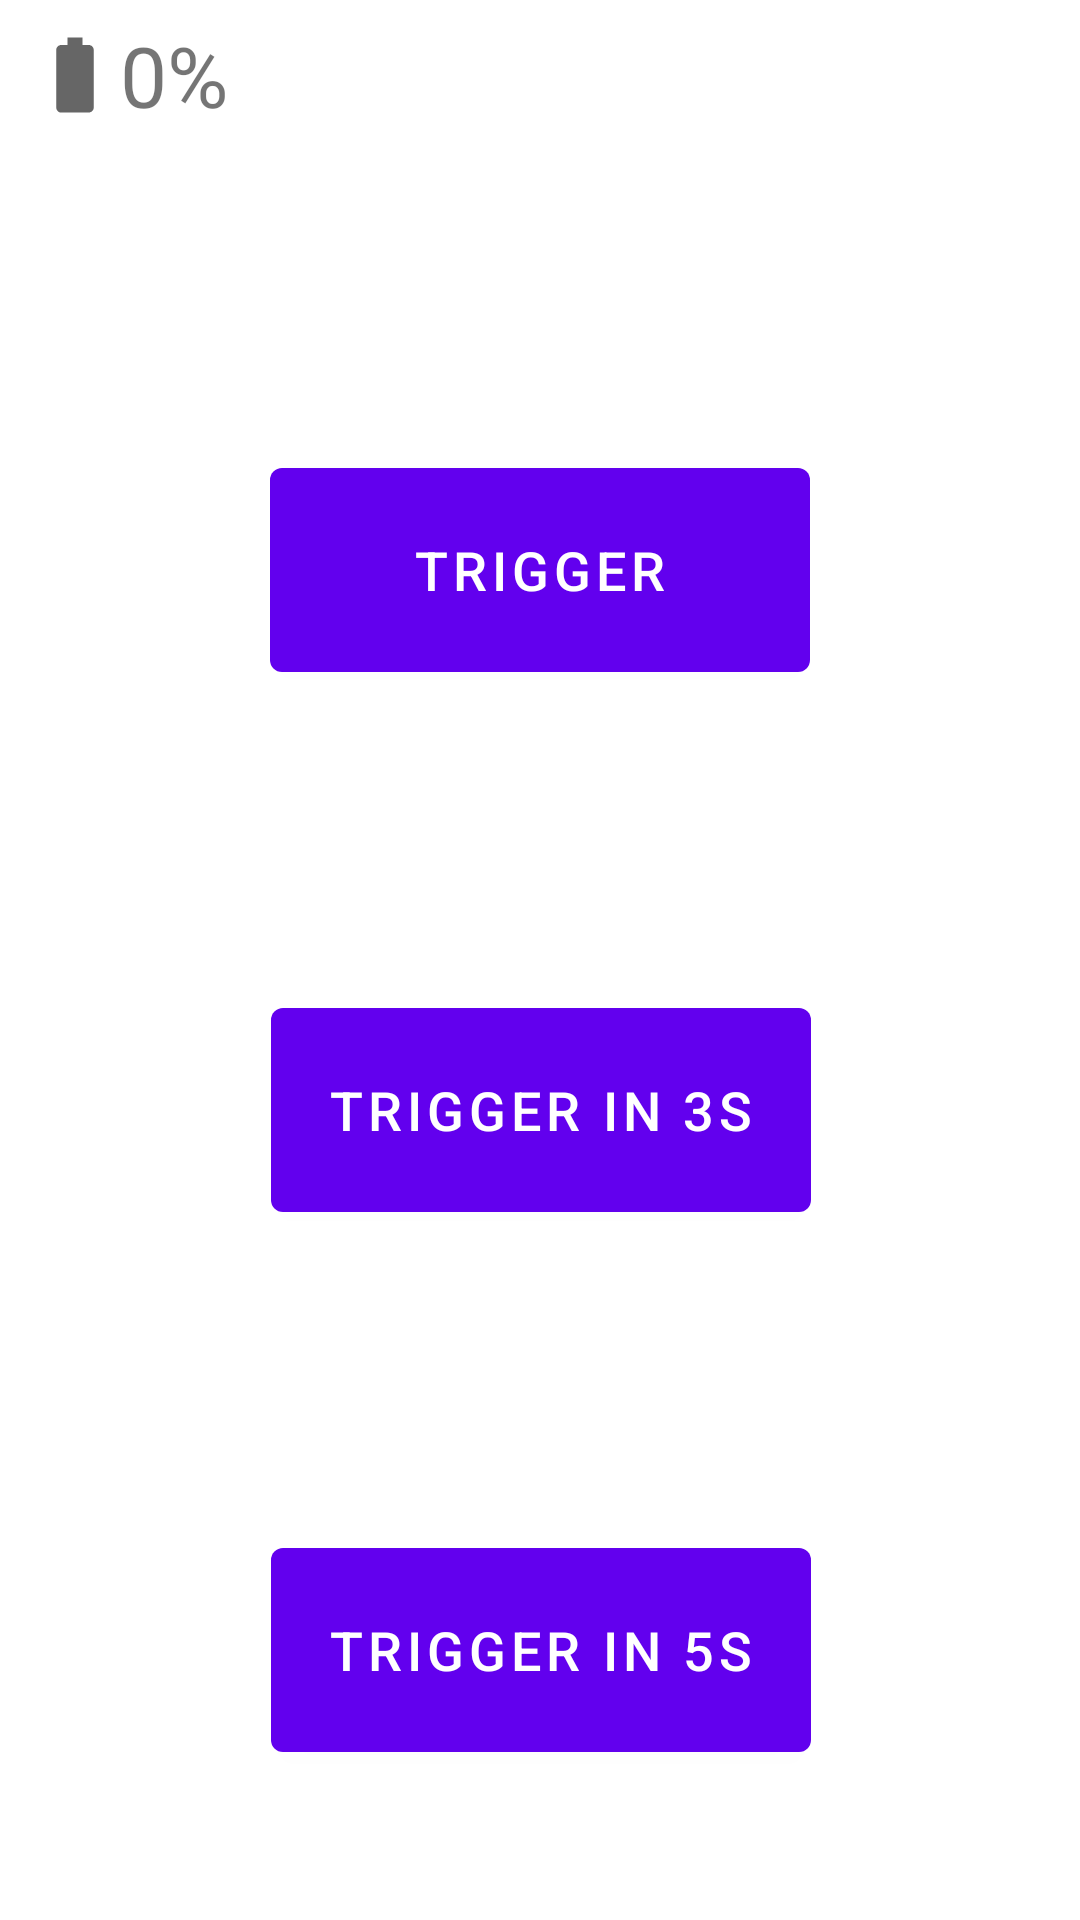

Named icons in this screenshot (1080*1920) and their centers, (x,y):
battery std: (75,75)
